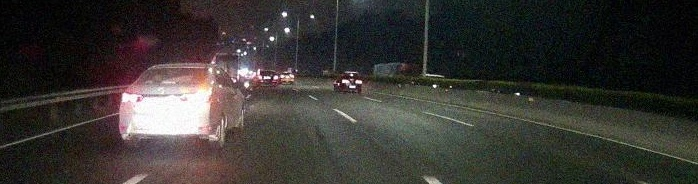L_light: (121, 92, 144, 104), (341, 79, 349, 84), (257, 76, 262, 79)
R_light: (187, 91, 215, 103), (355, 80, 362, 84), (273, 76, 279, 79)
T_light: (173, 66, 191, 73), (349, 74, 355, 76), (265, 71, 270, 73)
night-no: (340, 73, 363, 93), (256, 70, 279, 87)
night-right: (118, 61, 219, 150)
